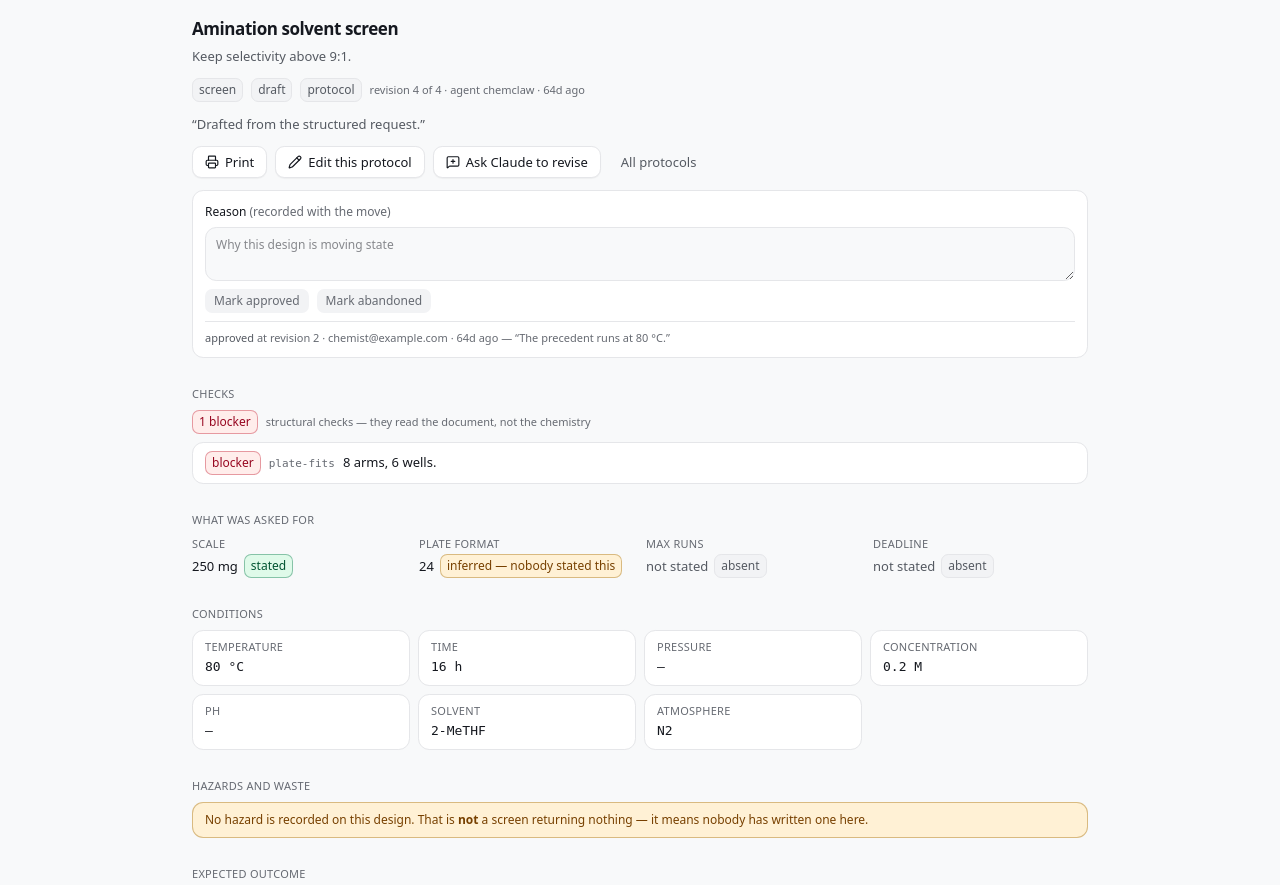
Test case: ProtocolDocument › puts a 422 in the alert with the service’s reason, never in the neutral banner
Type "looks fine to me" into the text box with placeholder "Why this design is moving state" at (640, 254), box top-left (205, 226), bottom-right (1075, 280)
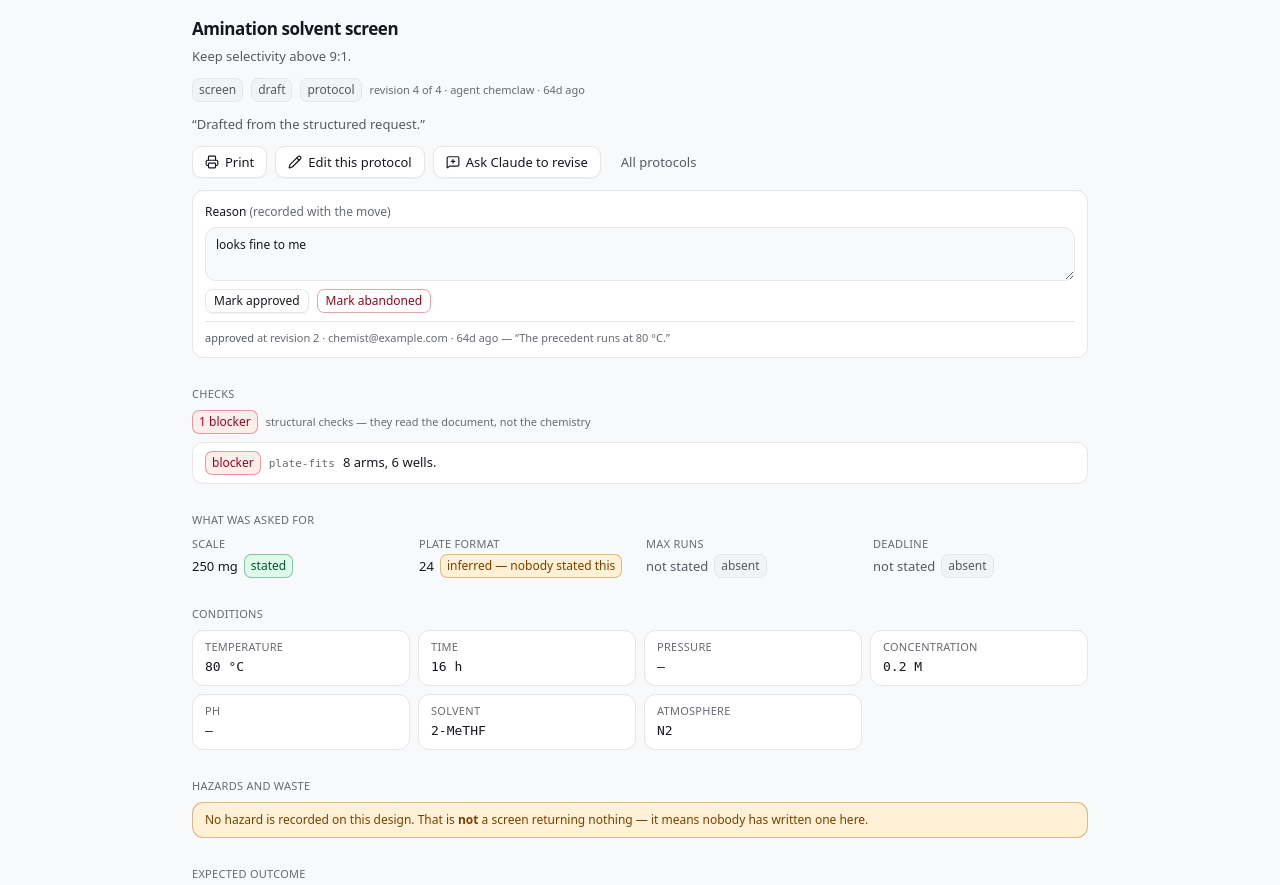
Click the button "Mark approved" at (257, 300), box top-left (205, 288), bottom-right (309, 312)
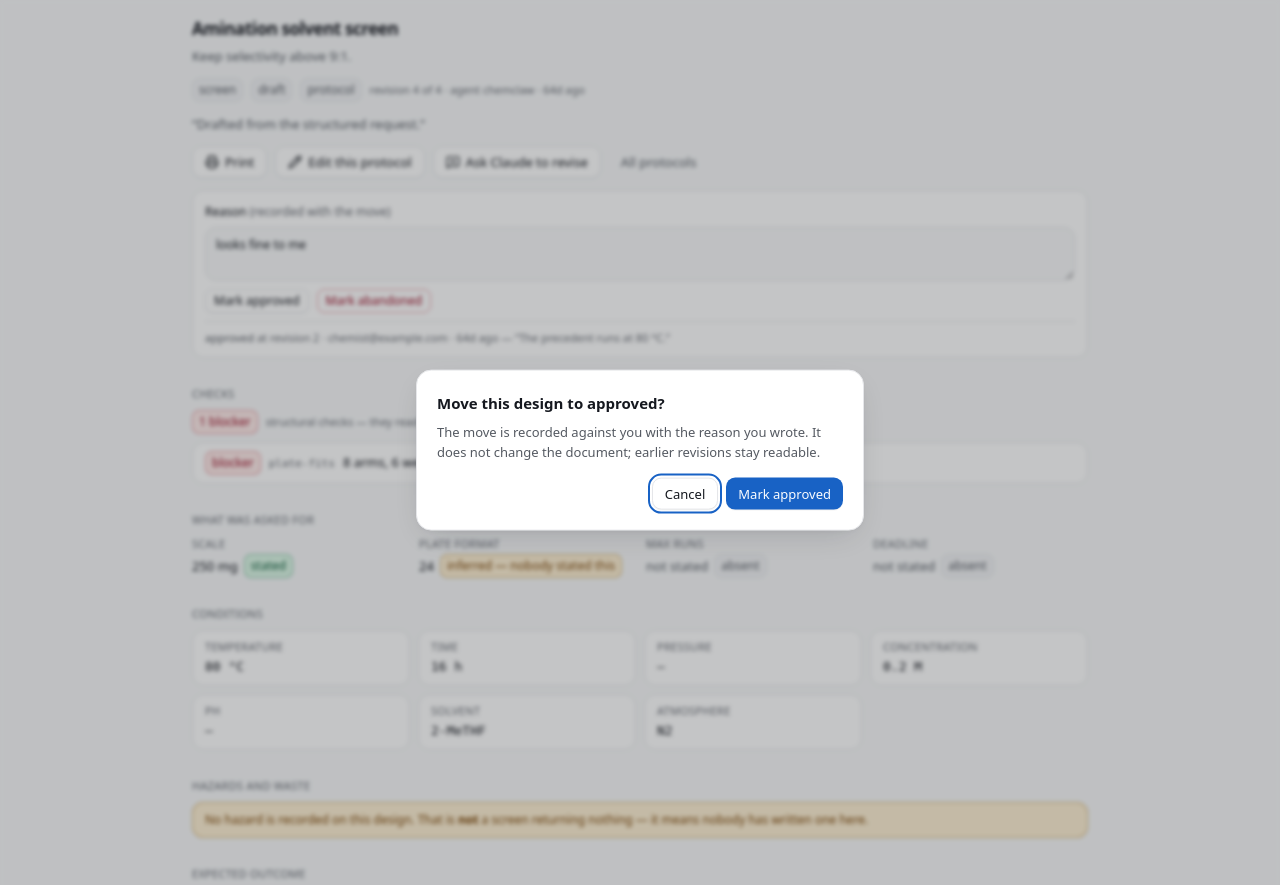
Click the button "Mark approved" at (785, 493), box top-left (726, 477), bottom-right (843, 509)
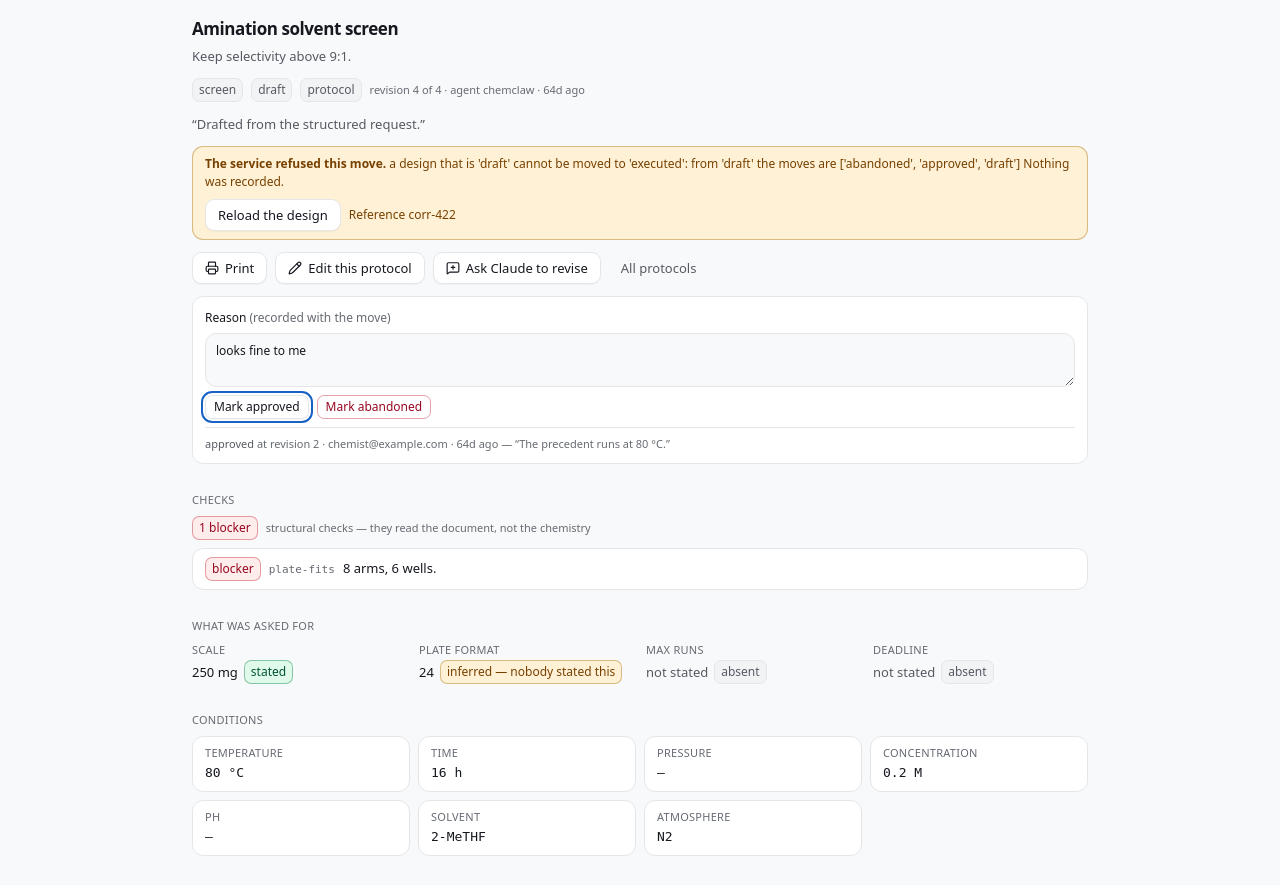
Now the message shows "The service refused this move", box top-left (205, 154), bottom-right (386, 172)
Now the message shows "cannot be moved to 'executed'", box top-left (389, 154), bottom-right (1020, 172)
Now the message shows "corr-422", box top-left (408, 206), bottom-right (456, 222)
